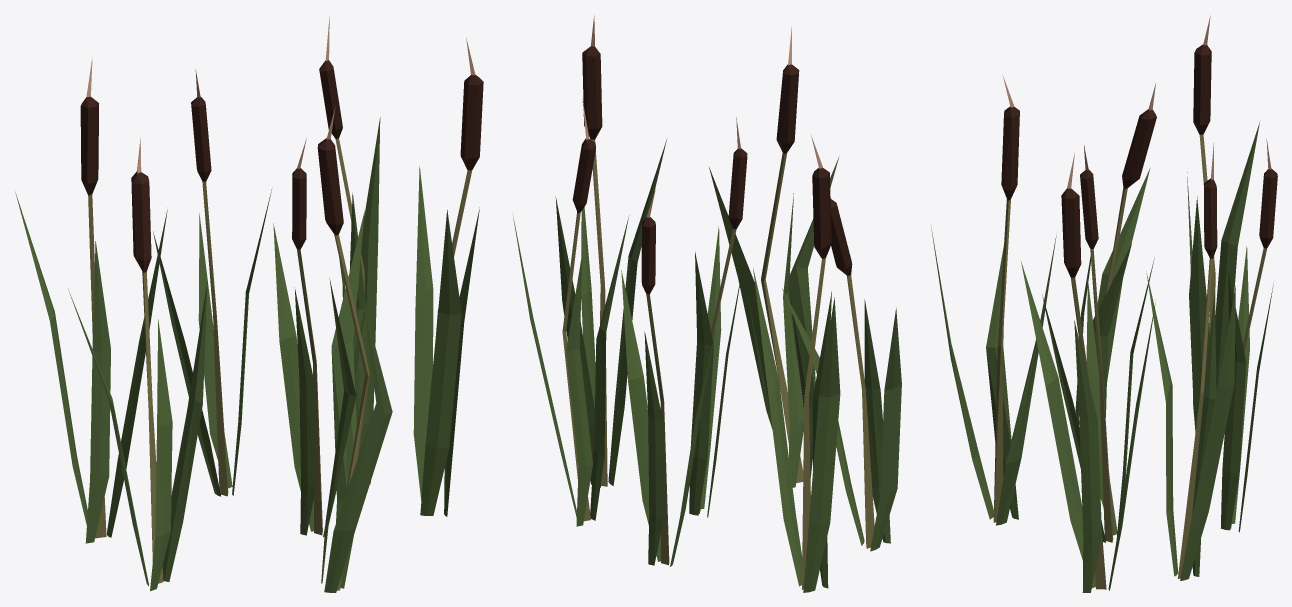
File: Reed_2 Asia.fbx
3 renders of one model, left to right at view 1: azimuth 30°, elevation 25°; view 2: azimuth 150°, elevation 25°; view 3: azimuth 270°, elevation 25°, orthographic. The views are drawn at different scales.
Parts seen in each view (by area): view 1: Reed_2; view 2: Reed_2; view 3: Reed_2.
Part boxes in pixels (box(x1,y1,x2,y2)): Reed_2: box(15, 16, 483, 592); Reed_2: box(513, 15, 901, 592); Reed_2: box(930, 15, 1277, 592).
Size of the model in its own units: 1.47 by 1.82 by 1.28.
